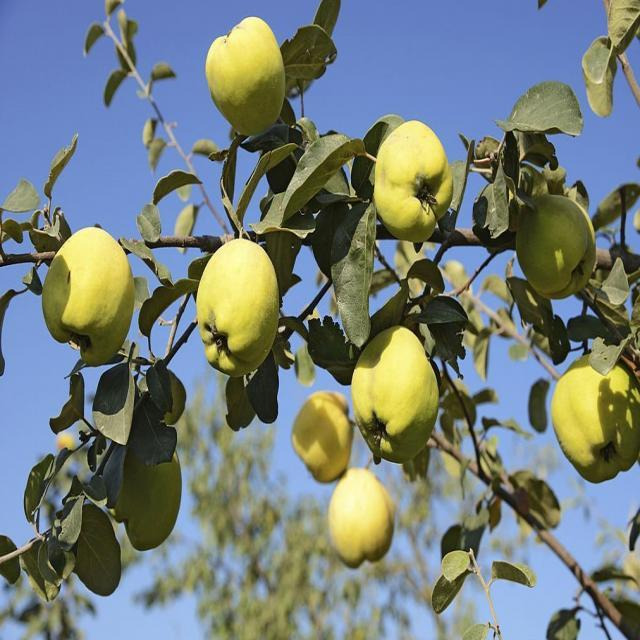Green Apple: (41, 228, 134, 366), (351, 323, 434, 462), (196, 238, 284, 369), (556, 354, 640, 481), (207, 10, 286, 130), (516, 186, 589, 298), (380, 125, 450, 228), (328, 472, 385, 569), (292, 394, 347, 476)
